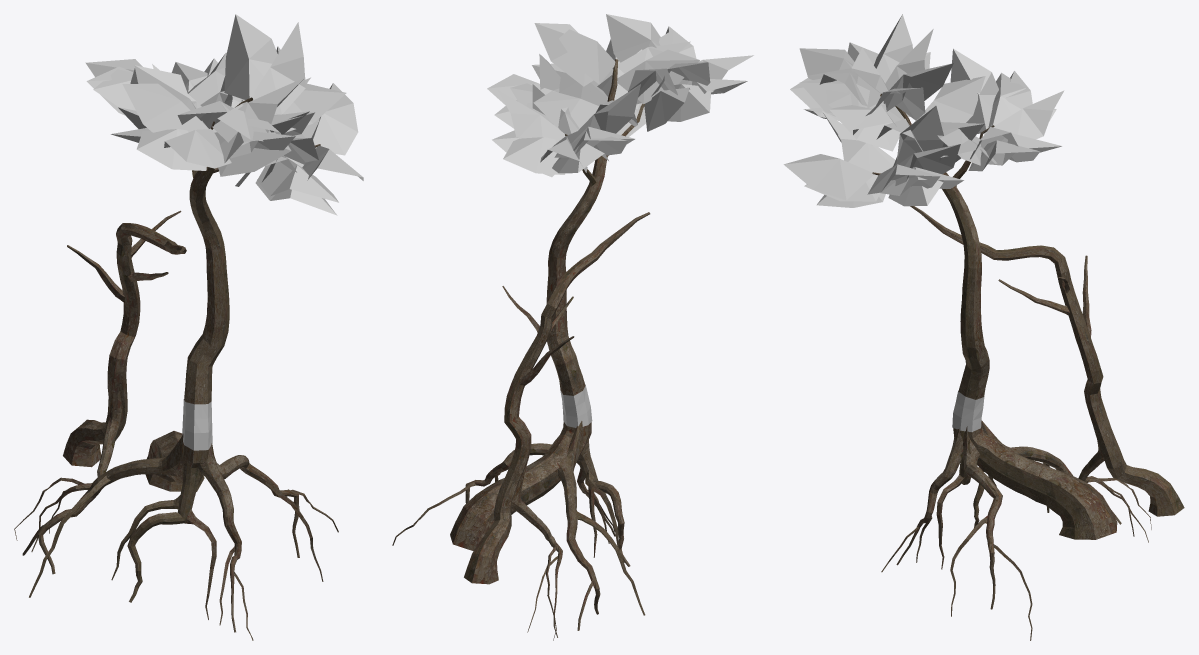
File: House66.fbx
The picture shows the model from 3 angles, left to right: view 1: azimuth 30°, elevation 25°; view 2: azimuth 150°, elevation 25°; view 3: azimuth 270°, elevation 25°; orthographic projection. The views are drawn at different scales.
Visible parts, largest first — view 1: AT_BGAgo_TrM02_07B.mo; view 2: AT_BGAgo_TrM02_07B.mo; view 3: AT_BGAgo_TrM02_07B.mo.
Part boxes in pixels (x1,y1,x2,y2): AT_BGAgo_TrM02_07B.mo: (14,14,363,640); AT_BGAgo_TrM02_07B.mo: (392,14,753,640); AT_BGAgo_TrM02_07B.mo: (783,14,1184,640).
Size of the model in its own units: 2342 by 4342 by 3031.
